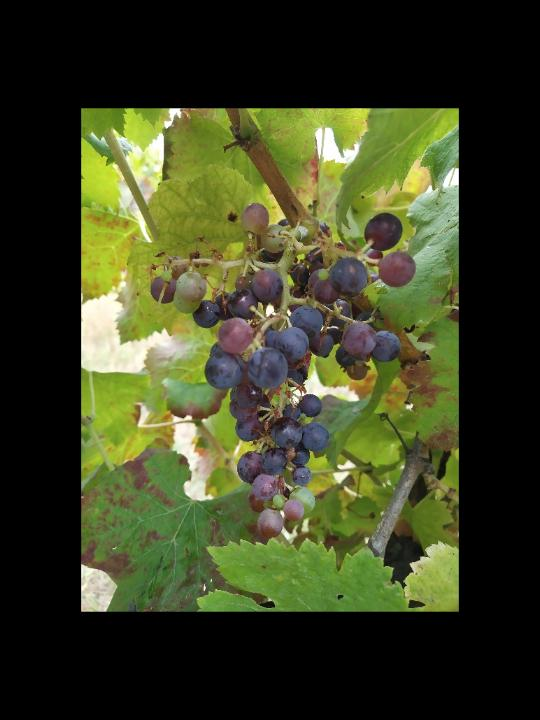grape: (148, 205, 417, 538)
